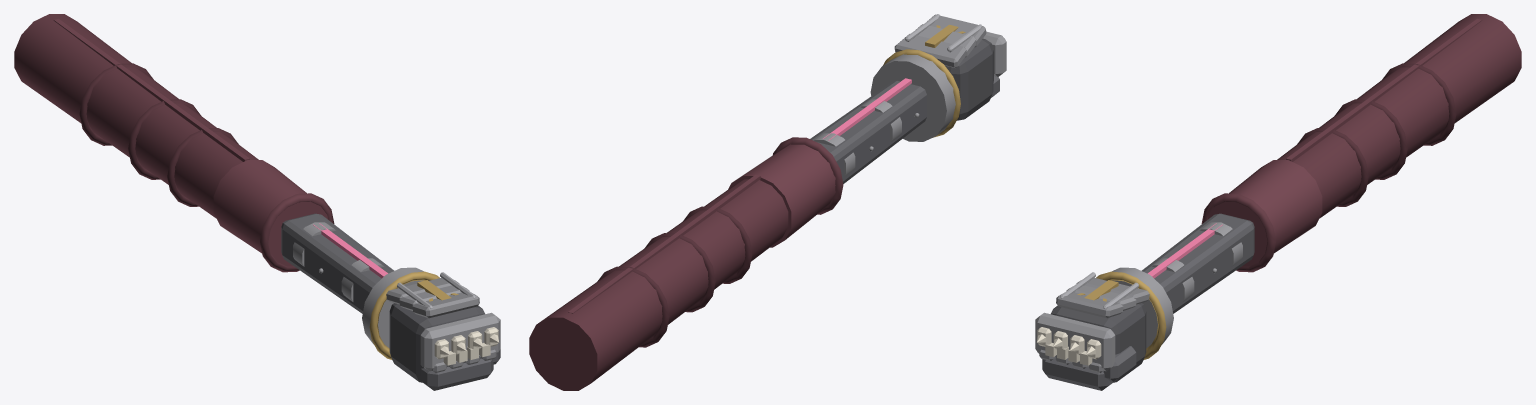
File: arm.glb
The picture shows the model from 3 angles, left to right: view 1: azimuth 30°, elevation 25°; view 2: azimuth 150°, elevation 25°; view 3: azimuth 330°, elevation 25°; orthographic projection.
Visible parts, largest first — view 1: sleeve, sleeve*1.001, black*1.35, black*1.0, steel.009, sleeve*1.25, steel.011, black*1.014, sleeve.001, glow*0.003, steel*0.005, sleeve*0.7 (+7 smaller); view 2: sleeve, sleeve*1.001, black*1.35, steel.011, black*1.0, sleeve*1.25, steel*0.9, sleeve.001, glow*0.003, swordglow, sleeve*0.7, sleeve*0.001 (+6 smaller); view 3: sleeve, sleeve*1.001, black*1.35, black*1.0, steel.009, sleeve*1.25, steel.011, sleeve.001, black*1.014, glow*0.003, steel*0.005, sleeve*0.7 (+8 smaller).
Part boxes in pixels (box(x1,y1,x2,y2)): sleeve: box(14, 14, 258, 217); sleeve*1.001: box(213, 160, 327, 266); black*1.35: box(281, 213, 394, 313); black*1.0: box(389, 303, 484, 382); steel.009: box(420, 312, 500, 371); sleeve*1.25: box(53, 18, 249, 161); steel.011: box(362, 267, 423, 348); black*1.014: box(418, 358, 493, 390); sleeve.001: box(260, 193, 334, 272); glow*0.003: box(369, 271, 439, 359); steel*0.005: box(412, 292, 479, 318); sleeve*0.7: box(79, 63, 153, 145); sleeve: box(529, 179, 788, 390); sleeve*1.001: box(728, 144, 835, 247); black*1.35: box(810, 81, 926, 183); steel.011: box(870, 54, 955, 141); black*1.0: box(945, 38, 993, 120); sleeve*1.25: box(568, 174, 760, 313); steel*0.9: box(894, 34, 966, 67); sleeve.001: box(773, 137, 843, 214); glow*0.003: box(883, 49, 960, 137); swordglow: box(823, 78, 911, 140); sleeve*0.7: box(597, 266, 669, 347); sleeve*0.001: box(644, 233, 715, 312); sleeve: box(1277, 14, 1521, 217); sleeve*1.001: box(1208, 160, 1322, 266); black*1.35: box(1141, 213, 1254, 313); black*1.0: box(1051, 303, 1146, 382); steel.009: box(1035, 312, 1115, 371); sleeve*1.25: box(1286, 18, 1482, 161); steel.011: box(1112, 267, 1173, 348); sleeve.001: box(1201, 193, 1275, 272); black*1.014: box(1042, 358, 1116, 390); glow*0.003: box(1096, 271, 1166, 359); steel*0.005: box(1056, 292, 1123, 318); sleeve*0.7: box(1382, 63, 1456, 145).
Size of the model in its own units: 0.102 by 0.104 by 0.89.
